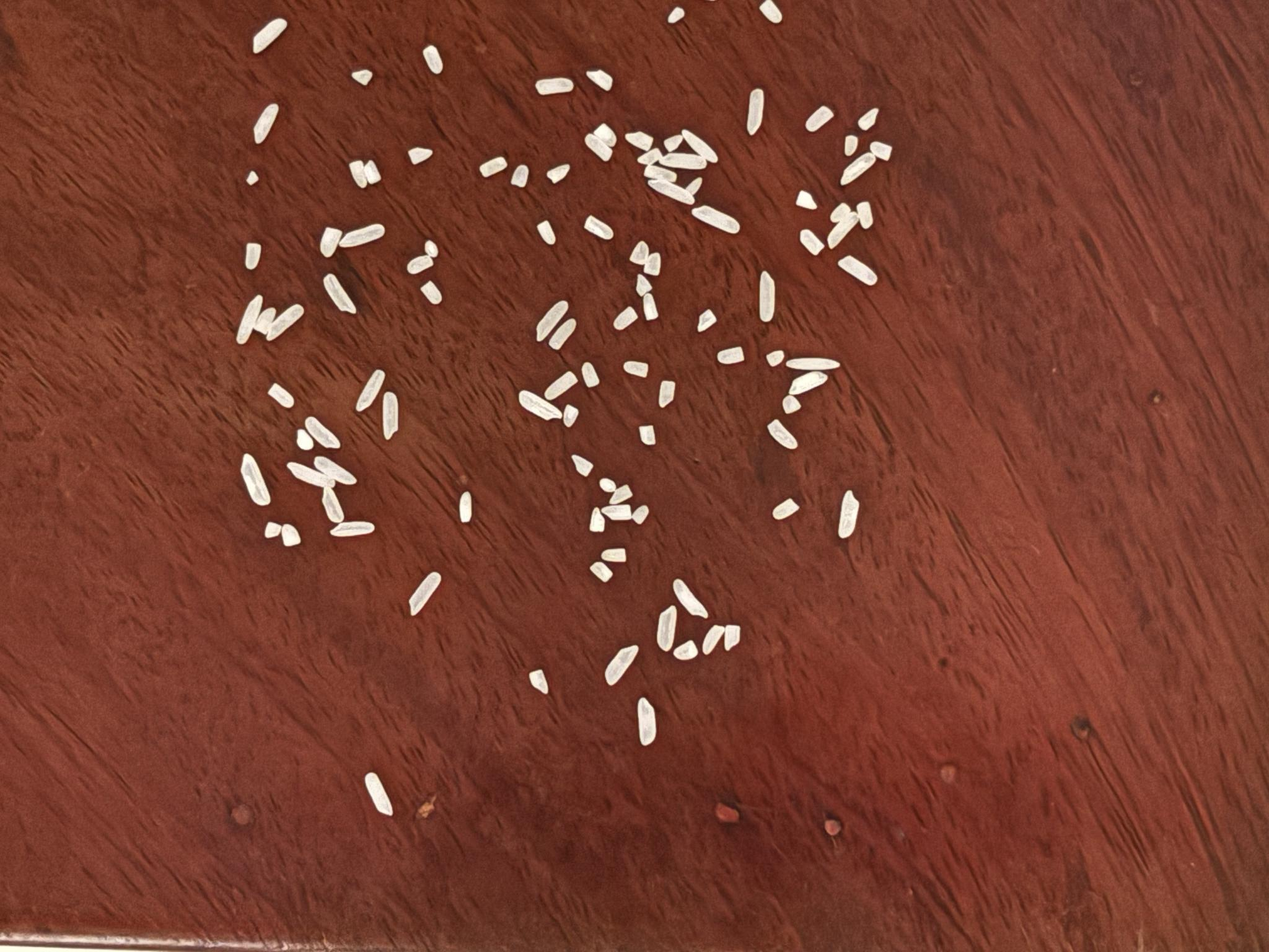Rice-th-y-nh: (239, 454, 271, 506), (630, 697, 663, 747), (832, 490, 865, 540), (670, 577, 709, 619), (752, 271, 783, 323), (407, 570, 442, 616), (533, 299, 569, 343), (692, 203, 740, 236), (604, 643, 640, 686), (651, 604, 683, 652), (266, 303, 305, 342), (787, 350, 839, 379), (739, 88, 771, 135), (516, 389, 562, 421), (362, 771, 394, 817), (322, 272, 357, 314), (837, 253, 879, 287), (838, 151, 877, 187), (680, 128, 719, 164), (234, 295, 262, 345), (287, 461, 335, 490), (313, 455, 357, 486), (788, 366, 828, 400), (649, 178, 695, 207), (251, 18, 288, 54), (826, 211, 860, 249), (356, 369, 385, 412), (304, 416, 340, 450), (660, 149, 707, 174), (340, 223, 385, 248), (766, 418, 798, 451), (253, 104, 279, 144), (543, 371, 578, 400), (380, 391, 401, 439), (548, 317, 577, 351), (322, 487, 345, 524), (584, 133, 613, 162), (534, 75, 574, 96), (805, 105, 834, 133), (584, 214, 614, 241), (700, 624, 725, 656), (318, 226, 343, 258), (716, 342, 745, 369), (799, 228, 825, 256), (602, 501, 633, 524), (455, 491, 477, 523), (673, 637, 700, 663), (643, 163, 678, 183), (422, 45, 445, 75), (720, 622, 743, 652), (655, 379, 678, 409), (592, 122, 618, 148), (625, 129, 654, 152), (853, 201, 876, 230), (268, 383, 294, 408), (613, 306, 639, 331), (772, 498, 800, 521), (254, 306, 276, 335), (279, 522, 303, 548), (479, 156, 507, 178), (608, 483, 634, 506), (527, 669, 550, 695), (642, 252, 665, 278), (629, 240, 651, 267), (586, 69, 613, 91), (622, 358, 649, 380), (640, 293, 661, 321), (348, 160, 368, 189), (759, 0, 783, 24), (571, 453, 595, 477), (857, 107, 881, 131), (420, 280, 443, 305), (586, 507, 608, 533), (637, 146, 664, 167), (600, 546, 628, 566), (869, 139, 893, 162), (636, 423, 659, 447), (509, 163, 531, 188), (406, 254, 433, 274), (580, 361, 600, 388), (536, 220, 557, 245), (560, 404, 581, 429), (829, 202, 853, 223), (590, 561, 614, 582), (244, 242, 262, 270), (697, 310, 718, 333), (634, 273, 654, 297), (794, 190, 818, 210), (546, 164, 571, 183), (781, 394, 803, 415), (630, 504, 651, 526), (363, 160, 382, 184), (407, 147, 433, 164), (663, 133, 685, 153), (842, 134, 860, 157), (684, 176, 704, 196), (765, 349, 786, 368), (296, 429, 314, 451), (351, 69, 373, 86), (263, 521, 283, 539), (666, 7, 686, 24), (423, 240, 440, 258), (598, 477, 617, 493)
